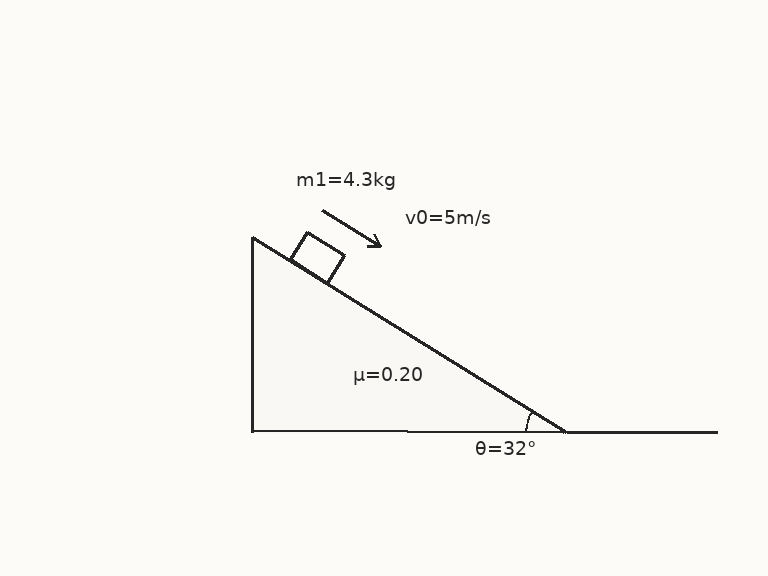block: (287, 230, 346, 285)
ramp: (249, 233, 568, 434)
